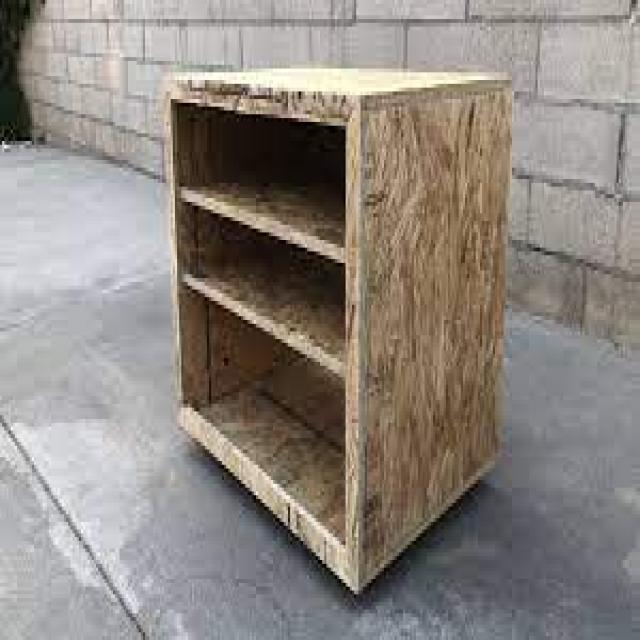Woods: (162, 69, 514, 594)
